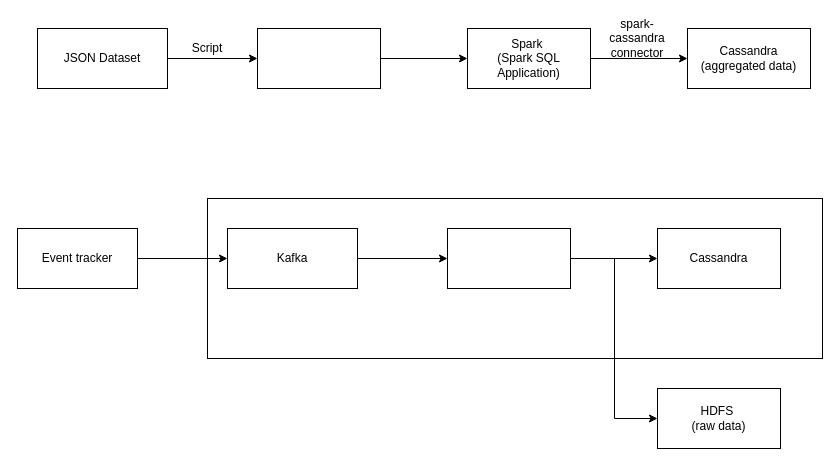
Image size: 840x466. Some labels were removed from this diagram. Each missing label, with the box of its shape:
HDFS ( raw data): (256, 28, 380, 88)
Mesos (Cluster Manager): (206, 198, 822, 358)
Spark: (446, 228, 570, 288)
